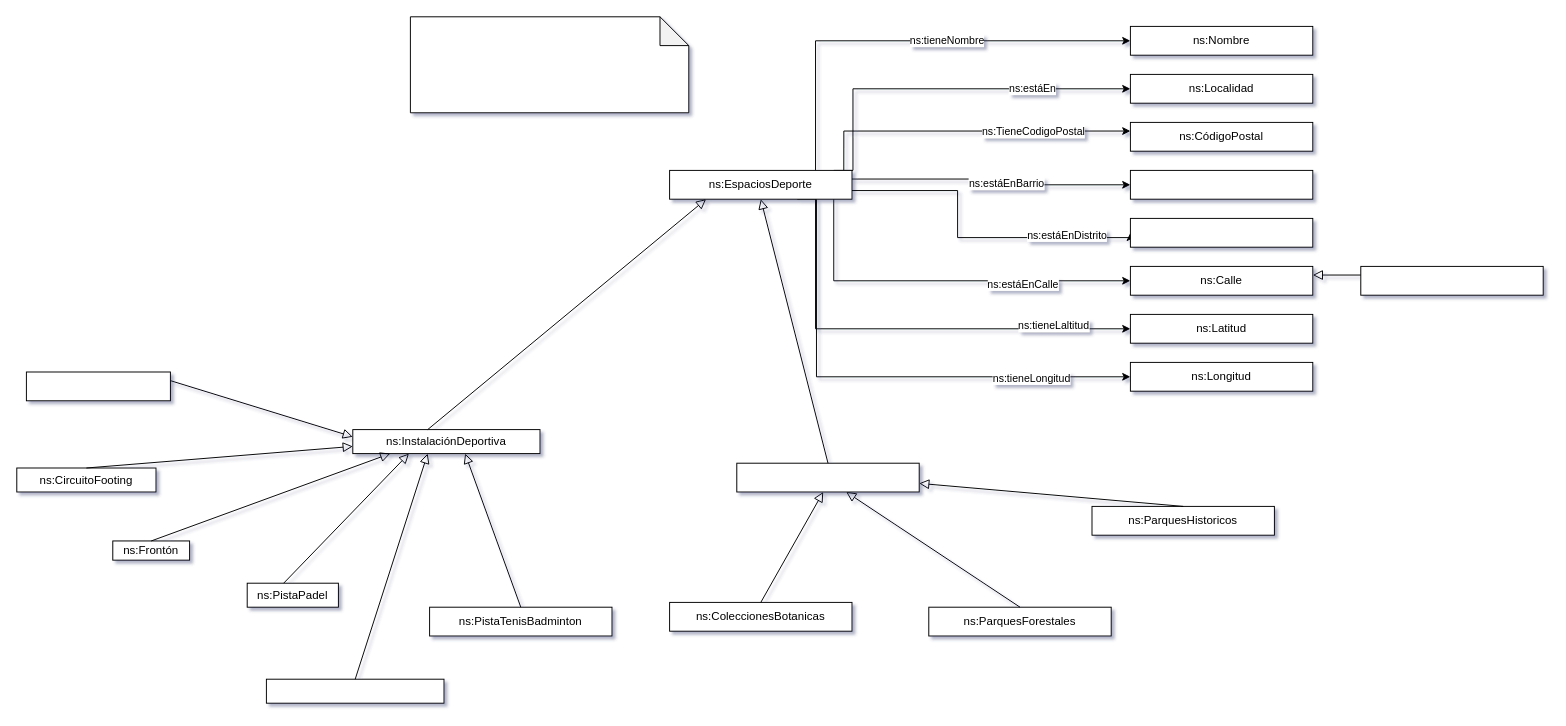
This 1566x726 diagram has some shape labels left out. The centre of each missing label's shape, as x and y in pixels:
"ns: http://example.com other: http://other.namespace.com" belongs at point 549,64.
"ns:Barrio" belongs at point 1221,184.
"ns:CalleTranquila" belongs at point 1451,280.
"ns:CircuitoCiclismo" belongs at point 97,386.
"ns:Distrito" belongs at point 1221,232.
"ns:ParquesJardines" belongs at point 827,477.
"ns:PistasPatinaje" belongs at point 354,690.
